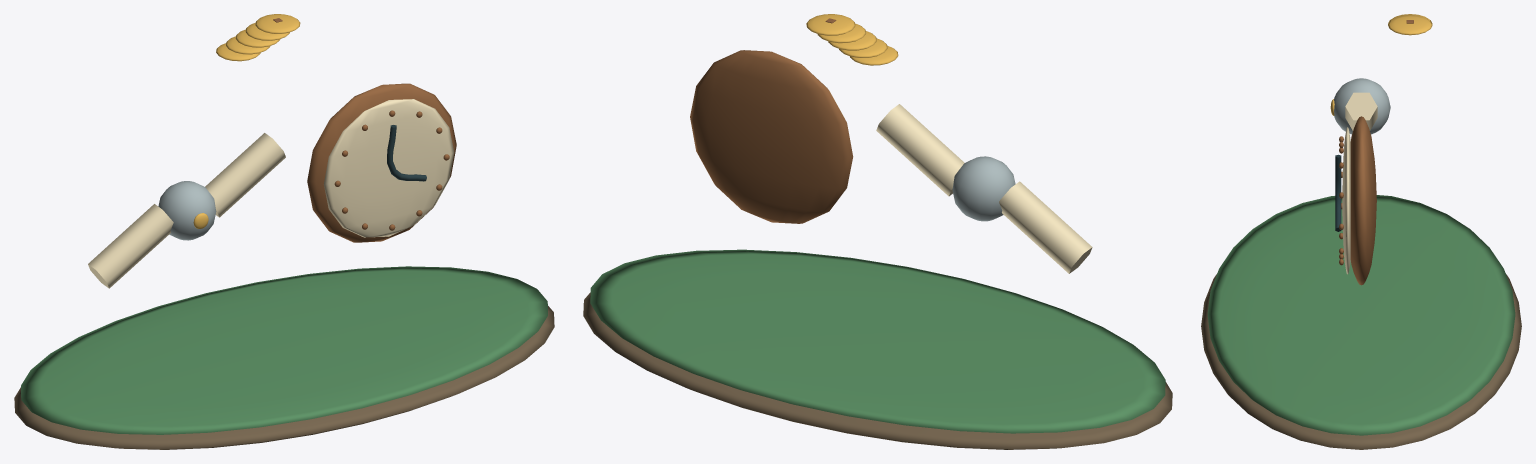
File: complete-third-joint-appointment-saving.glb
3 views of the same model, side by side, from view 1: azimuth 30°, elevation 25°; view 2: azimuth 150°, elevation 25°; view 3: azimuth 270°, elevation 25° (orthographic). The views are drawn at different scales.
Visible parts, largest first — view 1: complete-third-joint-appointment-saving_surface_01, complete-third-joint-appointment-saving_surface_02, complete-third-joint-appointment-saving_surface_00, complete-third-joint-appointment-saving_surface_05, complete-third-joint-appointment-saving_surface_03, complete-third-joint-appointment-saving_surface_04, complete-third-joint-appointment-saving_surface_06; view 2: complete-third-joint-appointment-saving_surface_01, complete-third-joint-appointment-saving_surface_05, complete-third-joint-appointment-saving_surface_00, complete-third-joint-appointment-saving_surface_02, complete-third-joint-appointment-saving_surface_03, complete-third-joint-appointment-saving_surface_04; view 3: complete-third-joint-appointment-saving_surface_01, complete-third-joint-appointment-saving_surface_00, complete-third-joint-appointment-saving_surface_05, complete-third-joint-appointment-saving_surface_02, complete-third-joint-appointment-saving_surface_03, complete-third-joint-appointment-saving_surface_04, complete-third-joint-appointment-saving_surface_06.
Part boxes in pixels (<box>): complete-third-joint-appointment-saving_surface_01: <box>21,266,547,434</box>; complete-third-joint-appointment-saving_surface_02: <box>88,99,454,288</box>; complete-third-joint-appointment-saving_surface_00: <box>14,306,554,449</box>; complete-third-joint-appointment-saving_surface_05: <box>273,18,456,242</box>; complete-third-joint-appointment-saving_surface_03: <box>158,181,216,240</box>; complete-third-joint-appointment-saving_surface_04: <box>193,14,300,228</box>; complete-third-joint-appointment-saving_surface_06: <box>387,125,426,181</box>; complete-third-joint-appointment-saving_surface_01: <box>590,249,1165,433</box>; complete-third-joint-appointment-saving_surface_05: <box>690,18,853,223</box>; complete-third-joint-appointment-saving_surface_00: <box>583,292,1172,449</box>; complete-third-joint-appointment-saving_surface_02: <box>829,91,1092,273</box>; complete-third-joint-appointment-saving_surface_03: <box>952,156,1015,221</box>; complete-third-joint-appointment-saving_surface_04: <box>806,14,898,65</box>; complete-third-joint-appointment-saving_surface_01: <box>1207,195,1515,435</box>; complete-third-joint-appointment-saving_surface_00: <box>1201,274,1521,449</box>; complete-third-joint-appointment-saving_surface_05: <box>1339,20,1413,285</box>; complete-third-joint-appointment-saving_surface_02: <box>1342,92,1377,274</box>; complete-third-joint-appointment-saving_surface_03: <box>1334,78,1390,134</box>; complete-third-joint-appointment-saving_surface_04: <box>1330,14,1432,115</box>; complete-third-joint-appointment-saving_surface_06: <box>1335,154,1341,231</box>.
Bounding box in the file's own units: 4.56 × 2.83 × 2.5.
